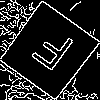F: (24, 25, 76, 80)
